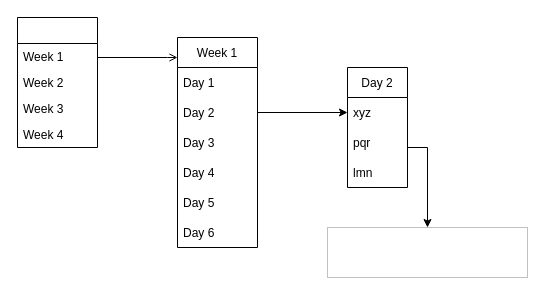
Image size: 545x295. Some labels were removed from this diagram. The shapes that lost their labels are listed below. From the top down, each one's box as (x1, y1, x2, y2) in pixels, then its label:
(16, 16, 98, 148): Month
(326, 226, 528, 278): Name Desc ListedOn (string) (string) (date)
